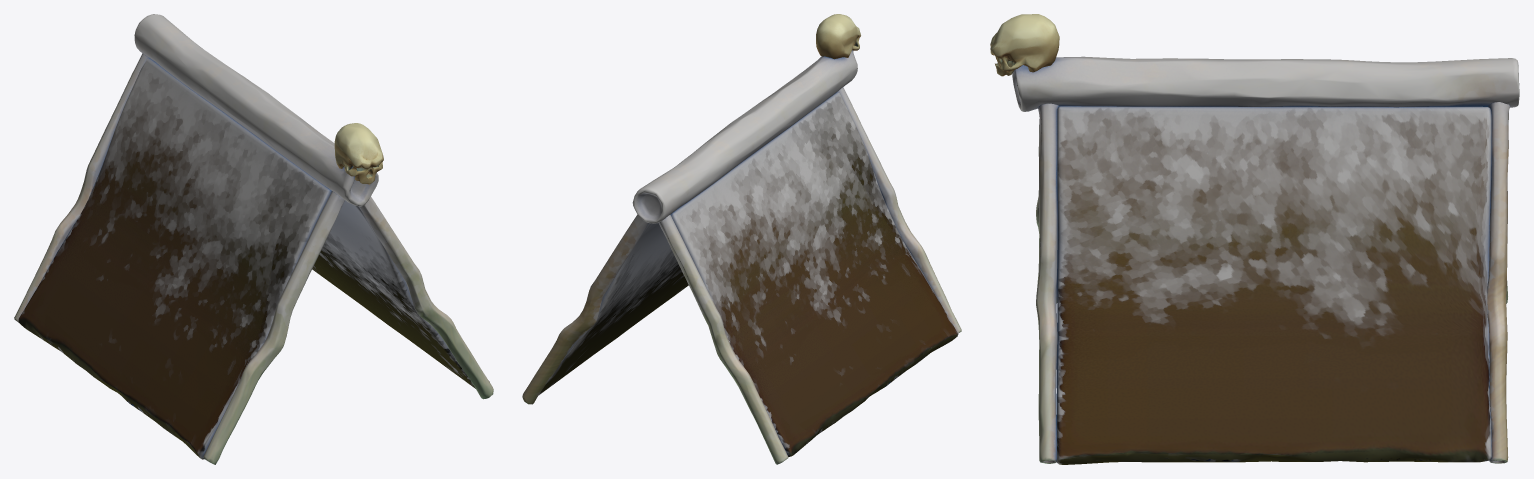
The model's file is tent1.glb.
The picture shows the model from 3 angles, left to right: view 1: azimuth 30°, elevation 25°; view 2: azimuth 150°, elevation 25°; view 3: azimuth 270°, elevation 25°; orthographic projection. The views are drawn at different scales.
Parts seen in each view (by area): view 1: tentt1; view 2: tentt1; view 3: tentt1.
Part boxes in pixels (left/top/right/bottom): tentt1: left=14, top=14, right=493, bottom=464; tentt1: left=522, top=14, right=961, bottom=464; tentt1: left=990, top=14, right=1519, bottom=464.
Bounding box in the file's own units: 25.41 × 25.89 × 33.52.
Materials: 1 (1 with a texture image).
